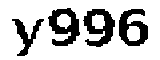6: (116, 6, 149, 52)
9: (47, 7, 79, 50), (83, 8, 116, 49)
y: (12, 17, 44, 57)
